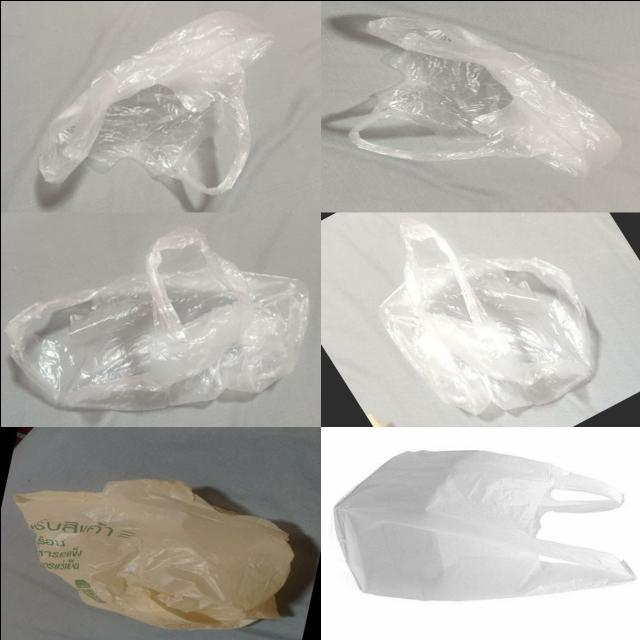plastik: (4, 227, 308, 409), (325, 16, 620, 175), (334, 449, 632, 599), (38, 11, 271, 192), (14, 478, 293, 628), (378, 221, 592, 414)
